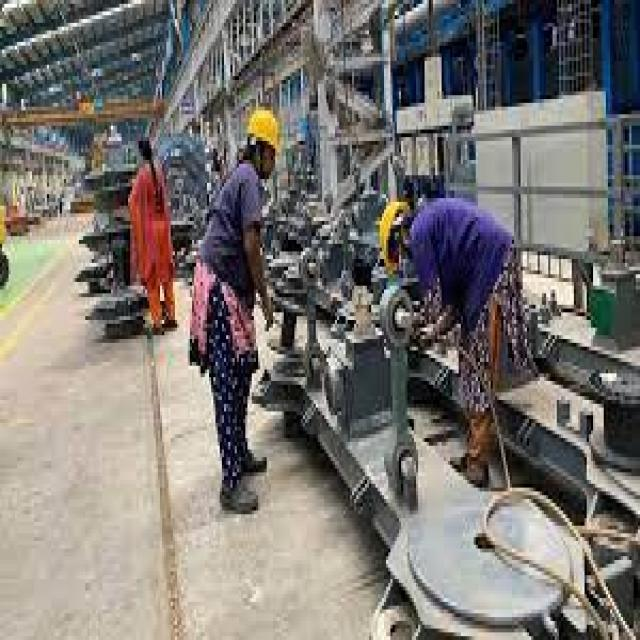Reflective-Jacket: (188, 164, 277, 373)
Safety-Helmet: (375, 190, 414, 270), (241, 95, 286, 164)
